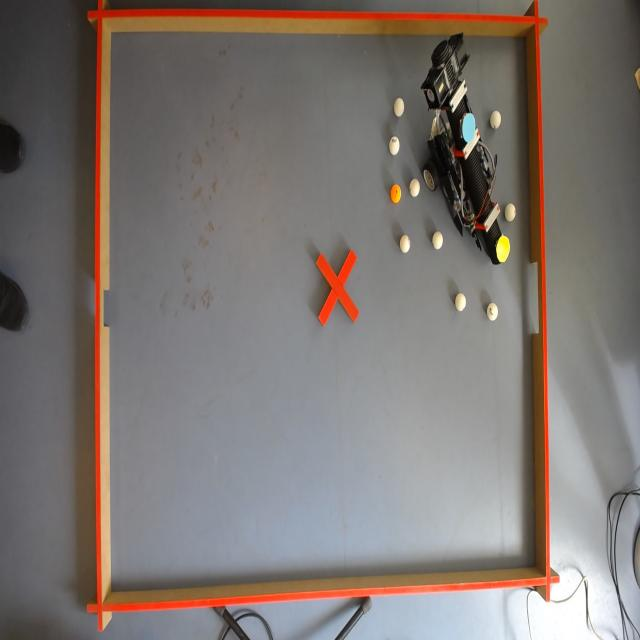orange: (392, 185, 402, 205)
robot: (419, 28, 518, 276)
robot-front: (496, 238, 513, 259)
robot-rear: (459, 115, 481, 142)
white: (394, 97, 408, 116), (399, 234, 412, 254), (409, 180, 421, 199), (455, 294, 467, 312), (506, 204, 518, 222), (390, 136, 402, 154), (433, 233, 445, 249), (490, 112, 500, 130), (486, 303, 497, 318)
